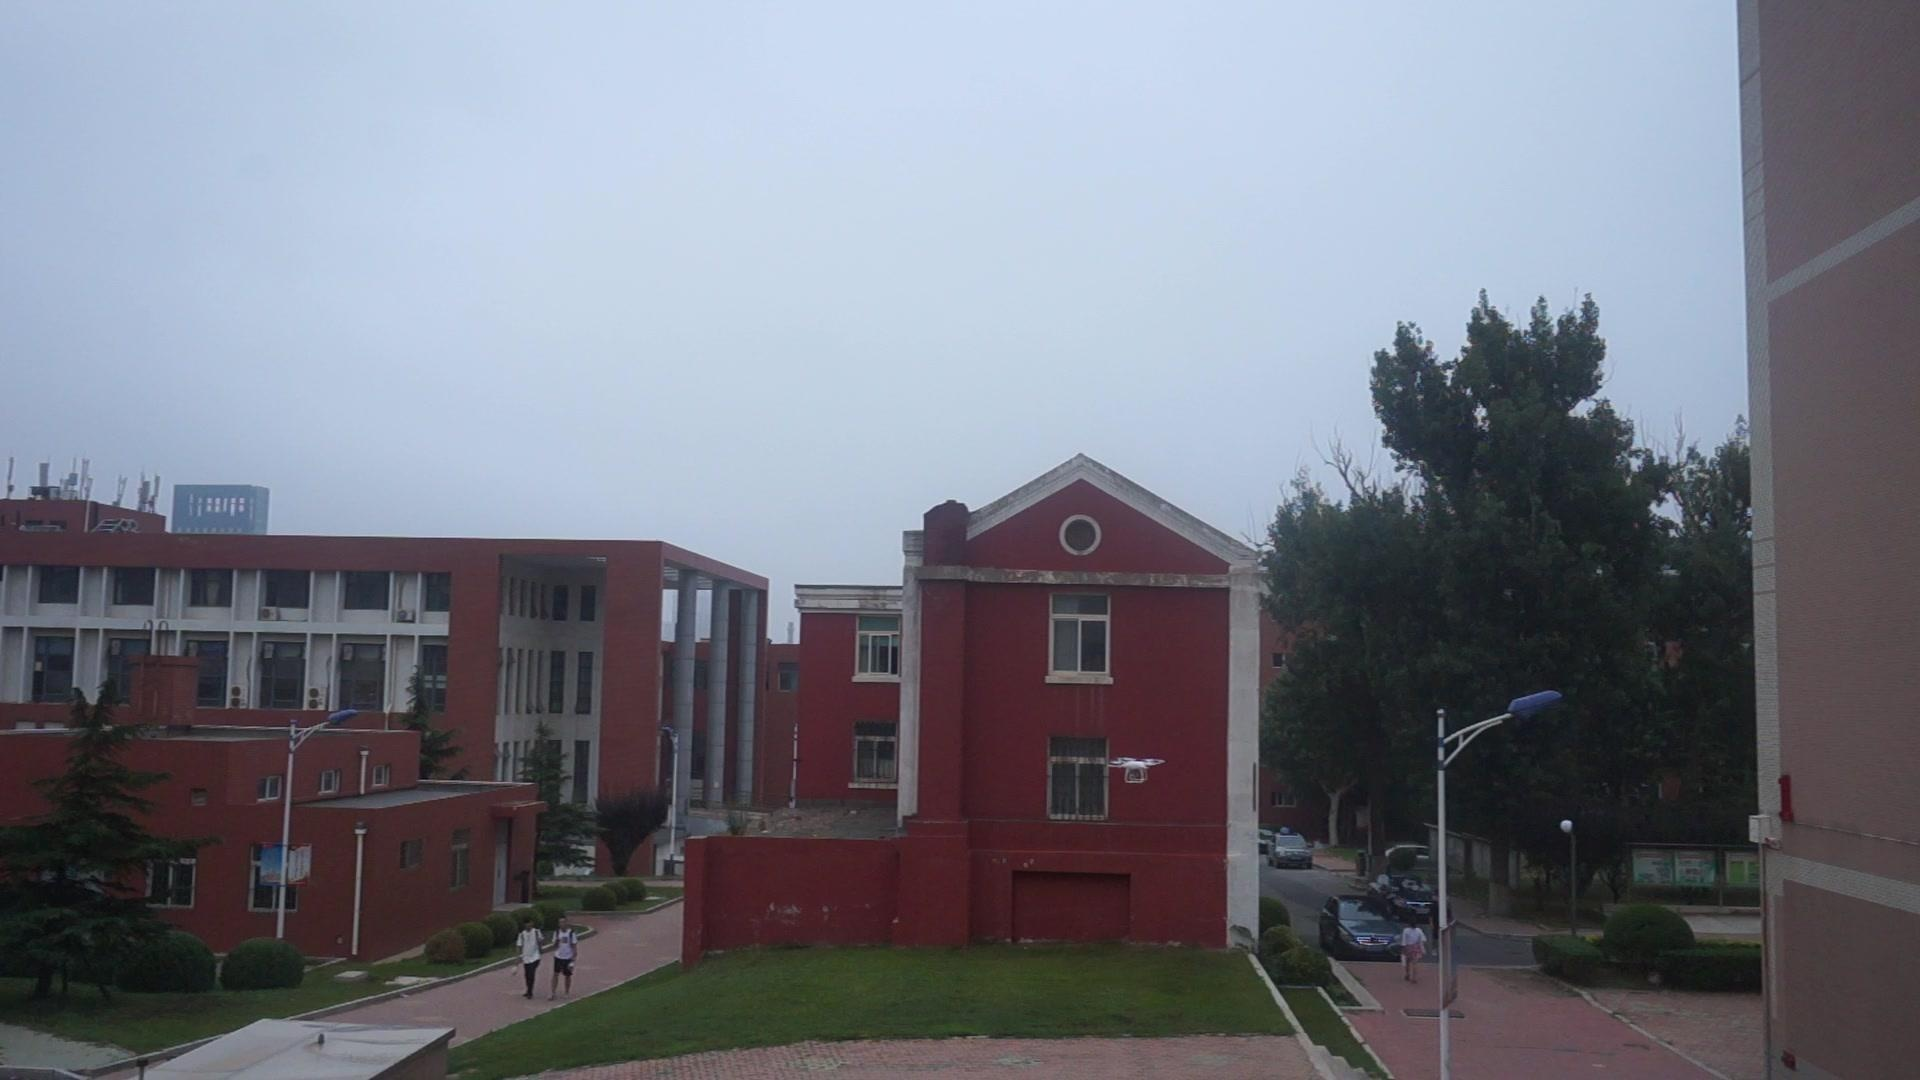UAV: (1109, 758, 1164, 785)
